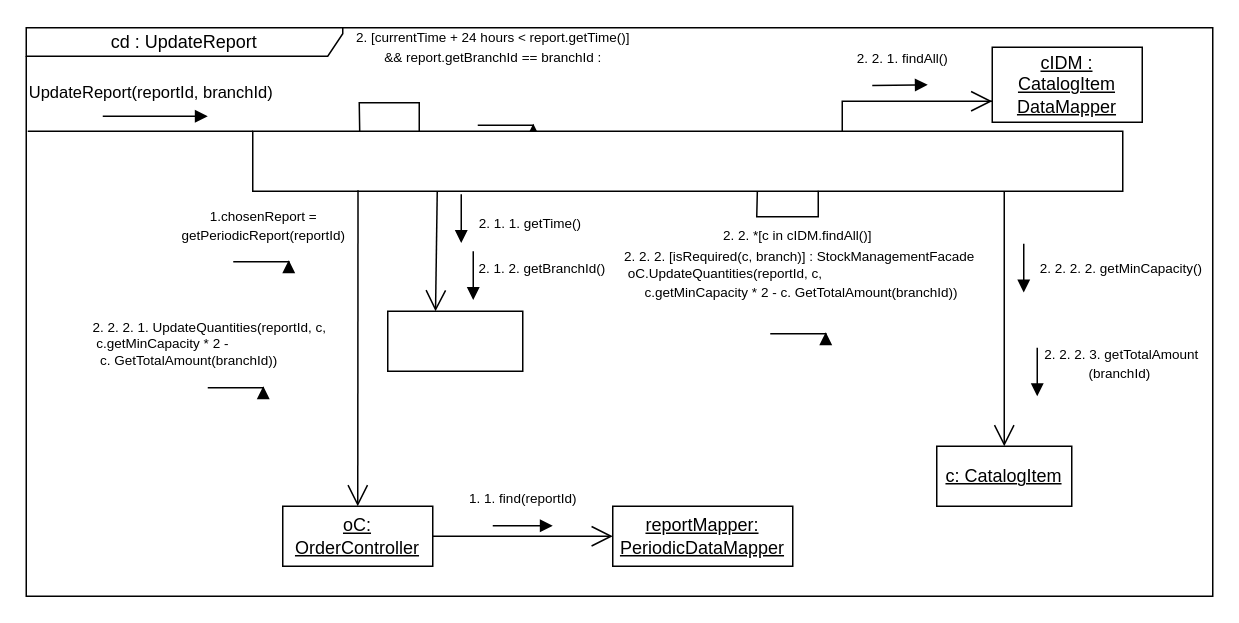
The diagram is 1239 pixels wide and 623 high, and some of its shapes have lost their labels. The shapes that lost their labels are listed below. From the top down, each one's centre as x and y in pixels, then its label:
point 687,160: StockManagementFacade
point 454,340: report: PeriodicReport
